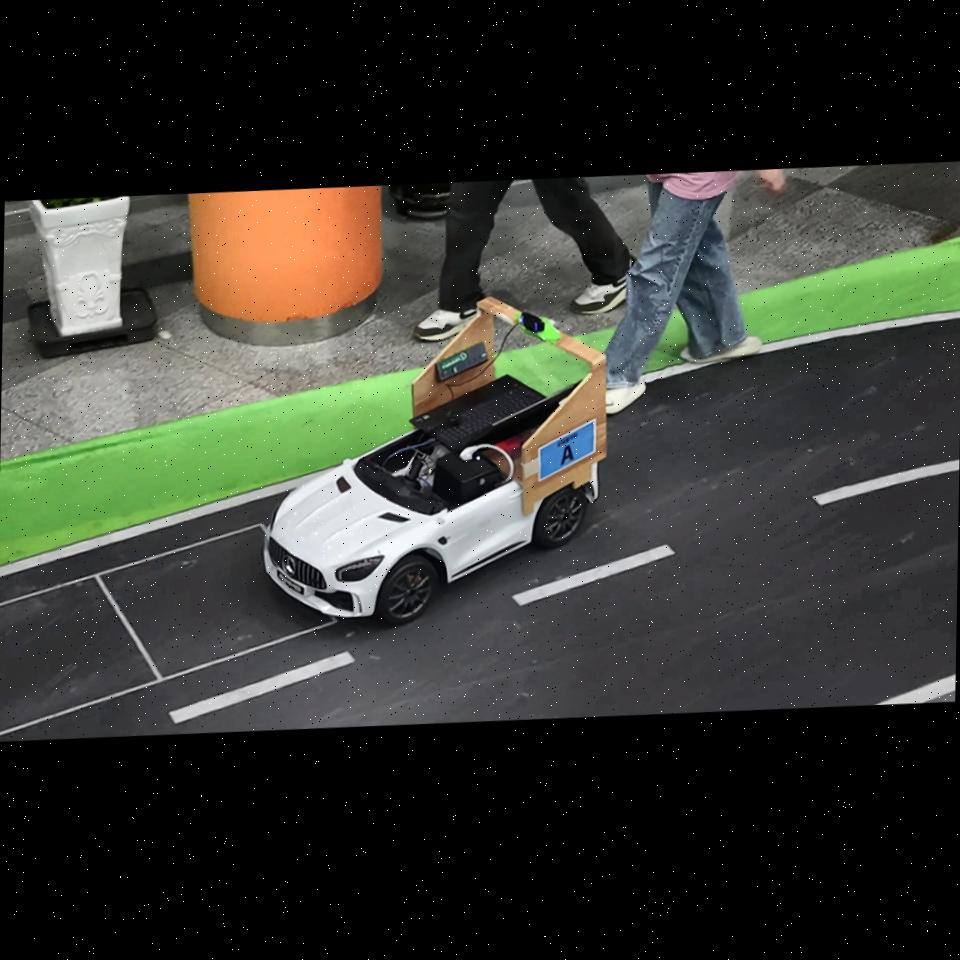broken_line: (169, 652, 356, 724), (512, 545, 676, 606), (813, 460, 959, 505)
